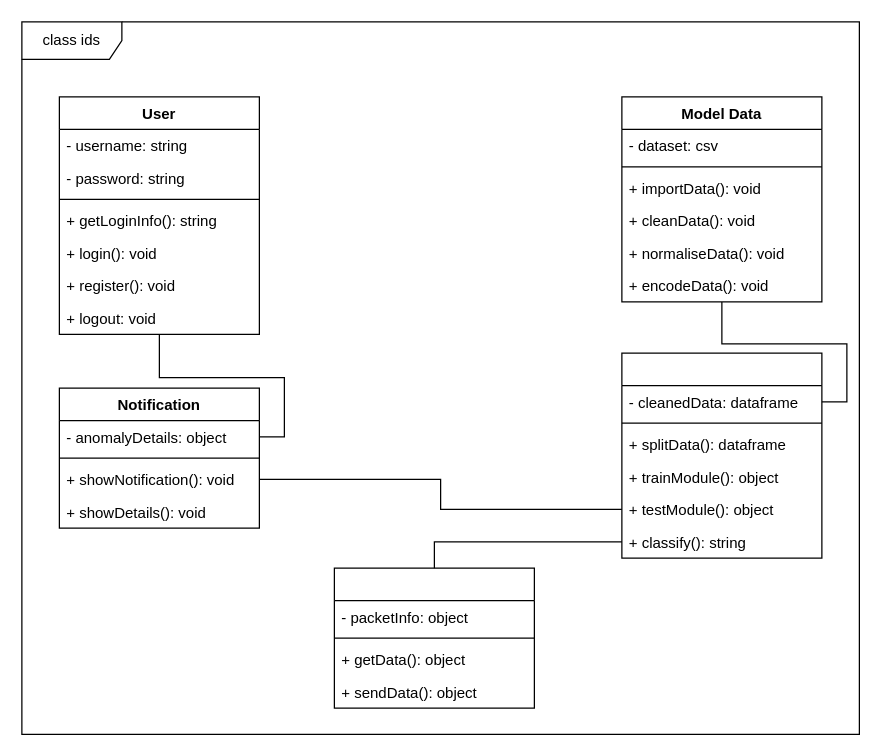
Some shapes in this 881 by 756 pixel diagram are drawn without their labels. The box of each missing label's shape, as (x1, y1, x2, y2) in pixels:
IoT Data: (333, 567, 534, 708)
Model: (621, 352, 822, 558)
